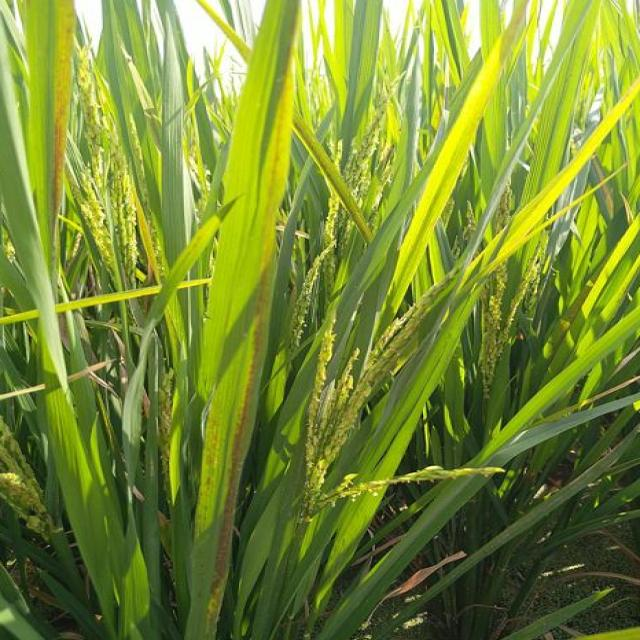Leaf Streak: (210, 0, 298, 596), (294, 120, 371, 243), (48, 0, 74, 225), (548, 272, 596, 350), (198, 402, 220, 508)
